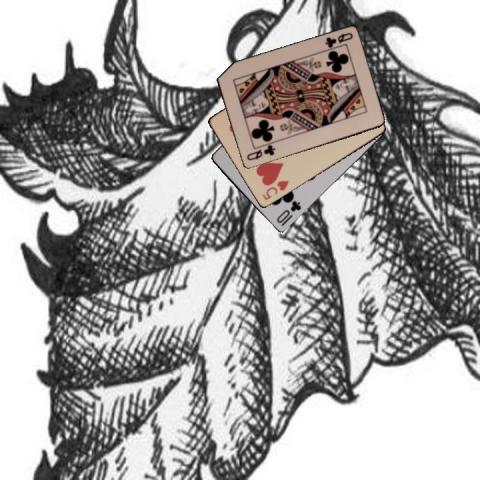10c: (273, 198, 303, 228)
5h: (259, 177, 291, 202)
Qc: (243, 143, 277, 162), (322, 30, 354, 49)
